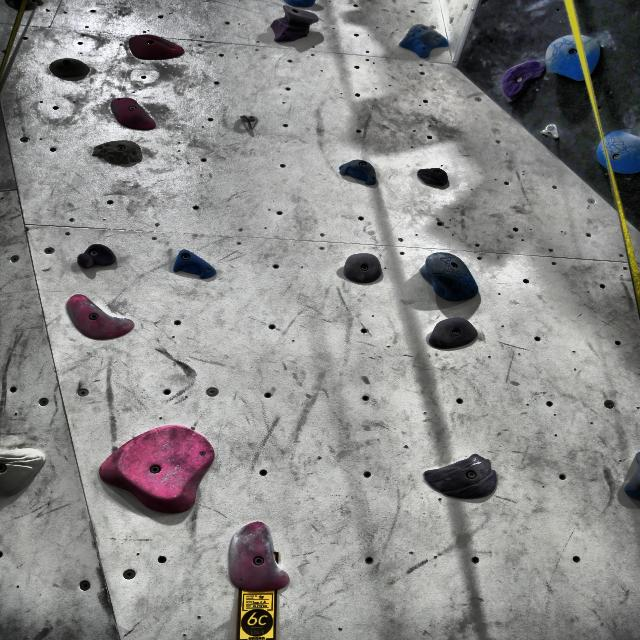Hold: (89, 420, 213, 517), (224, 519, 295, 593), (416, 447, 502, 500), (415, 247, 488, 303), (62, 289, 136, 342), (545, 30, 609, 85), (0, 440, 53, 498), (115, 21, 184, 65), (263, 2, 321, 46), (588, 125, 640, 173), (397, 23, 459, 58), (418, 315, 482, 348), (166, 247, 221, 284), (106, 94, 160, 130), (340, 250, 382, 289), (89, 142, 155, 166), (333, 155, 380, 188), (74, 240, 116, 271), (50, 54, 94, 83), (411, 160, 453, 188)
